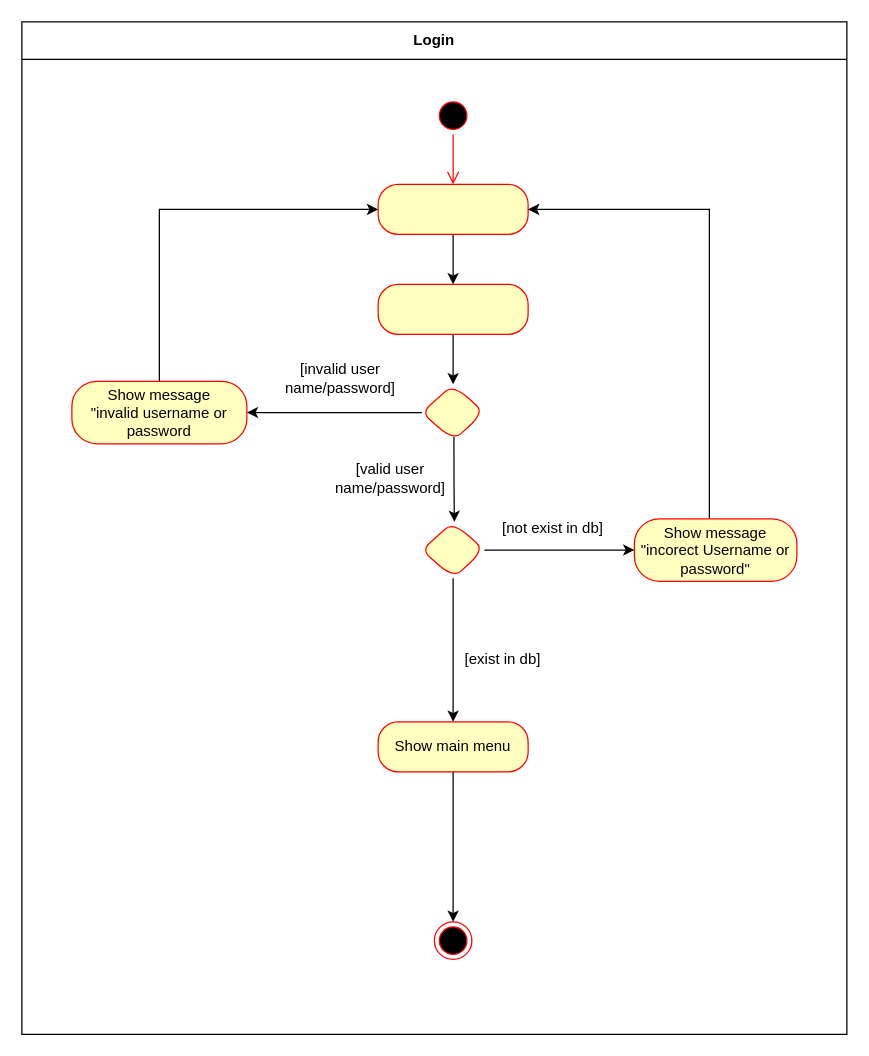
Image size: 869x1056. Some labels were removed from this diagram. Each missing label, with the box of its shape:
Input Username Password: (377, 283, 528, 334)
Show login screen: (377, 183, 528, 234)
